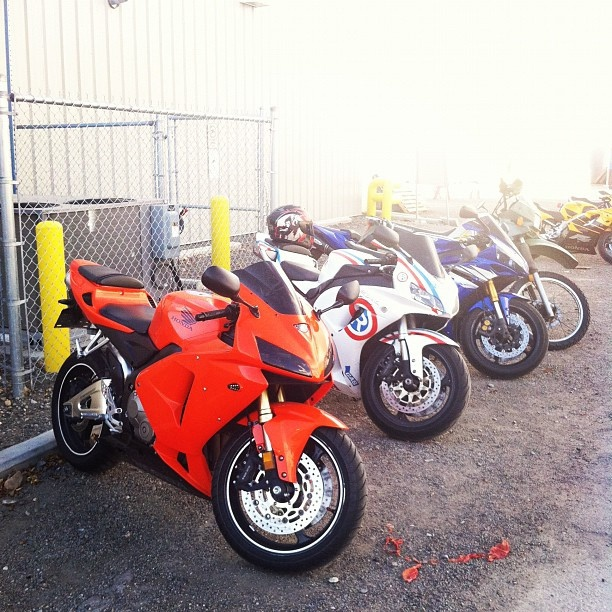non-vehicle: (53, 257, 368, 573), (254, 213, 474, 440), (309, 205, 547, 380), (476, 179, 590, 349), (527, 194, 612, 263)
